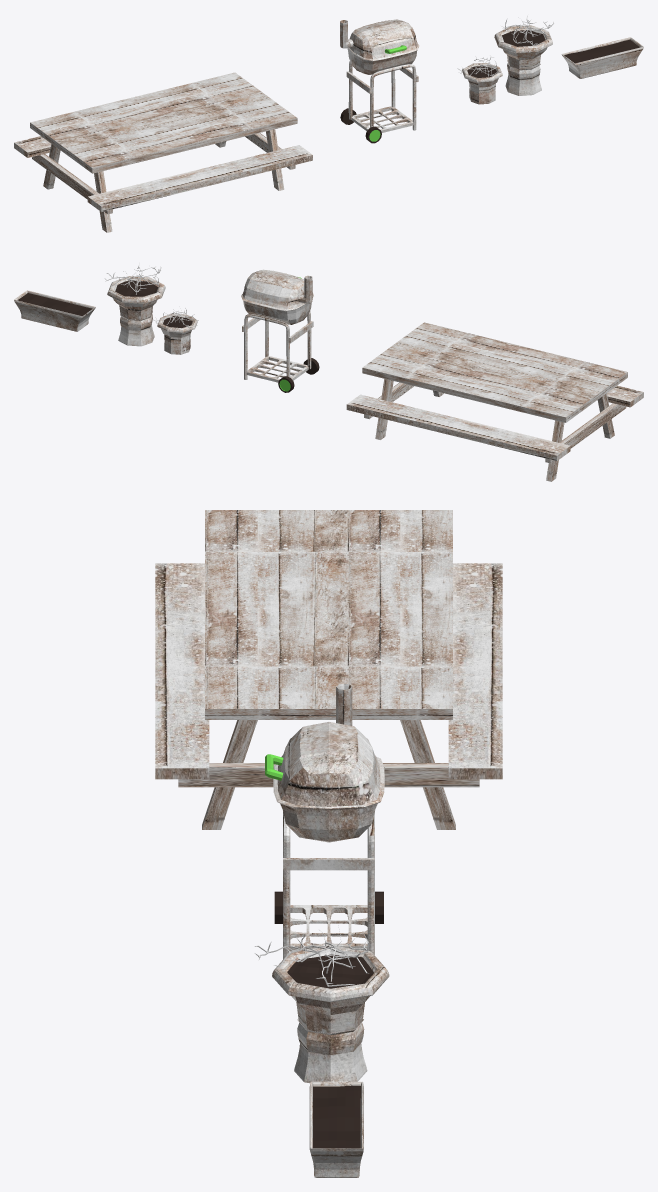
File: Garden2.fbx
The picture shows the model from 3 angles, top to bottom: view 1: azimuth 30°, elevation 25°; view 2: azimuth 150°, elevation 25°; view 3: azimuth 270°, elevation 25°; orthographic projection. The views are drawn at different scales.
Visible parts, largest first — view 1: Table, Grill, Vase.001, Vase.002, Vase, DeadFlower.001; view 2: Table, Grill, Vase.001, Vase.002, Vase, DeadFlower.001; view 3: Table, Grill, Vase.001, Vase.002, DeadFlower.001.
Boxes of the visible parts, x1=… form: Table: x1=14, y1=72, x2=312, y2=232; Grill: x1=340, y1=19, x2=419, y2=143; Vase.001: x1=494, y1=25, x2=552, y2=95; Vase.002: x1=561, y1=37, x2=643, y2=78; Vase: x1=462, y1=63, x2=502, y2=104; DeadFlower.001: x1=500, y1=15, x2=553, y2=45; Table: x1=346, y1=322, x2=643, y2=481; Grill: x1=241, y1=269, x2=319, y2=392; Vase.001: x1=107, y1=276, x2=165, y2=346; Vase.002: x1=14, y1=290, x2=95, y2=331; Vase: x1=157, y1=313, x2=197, y2=354; DeadFlower.001: x1=105, y1=262, x2=161, y2=294; Table: x1=155, y1=510, x2=502, y2=829; Grill: x1=265, y1=683, x2=384, y2=959; Vase.001: x1=272, y1=945, x2=389, y2=1083; Vase.002: x1=309, y1=1081, x2=363, y2=1177; DeadFlower.001: x1=254, y1=926, x2=369, y2=986.
Size of the model in its own units: 4600 by 897 by 1198.
